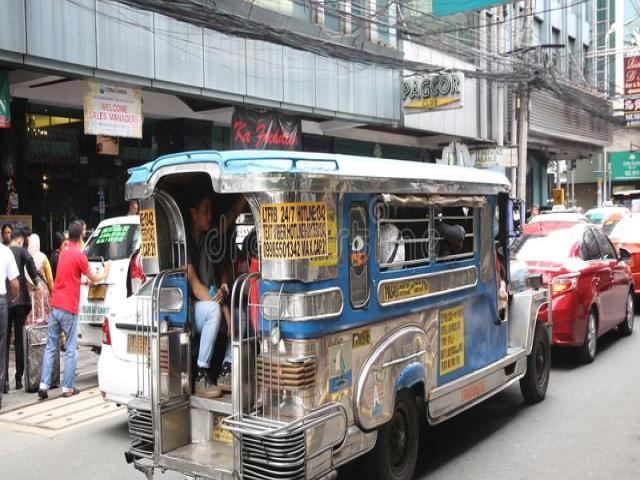jeepney: (114, 116, 560, 480)
